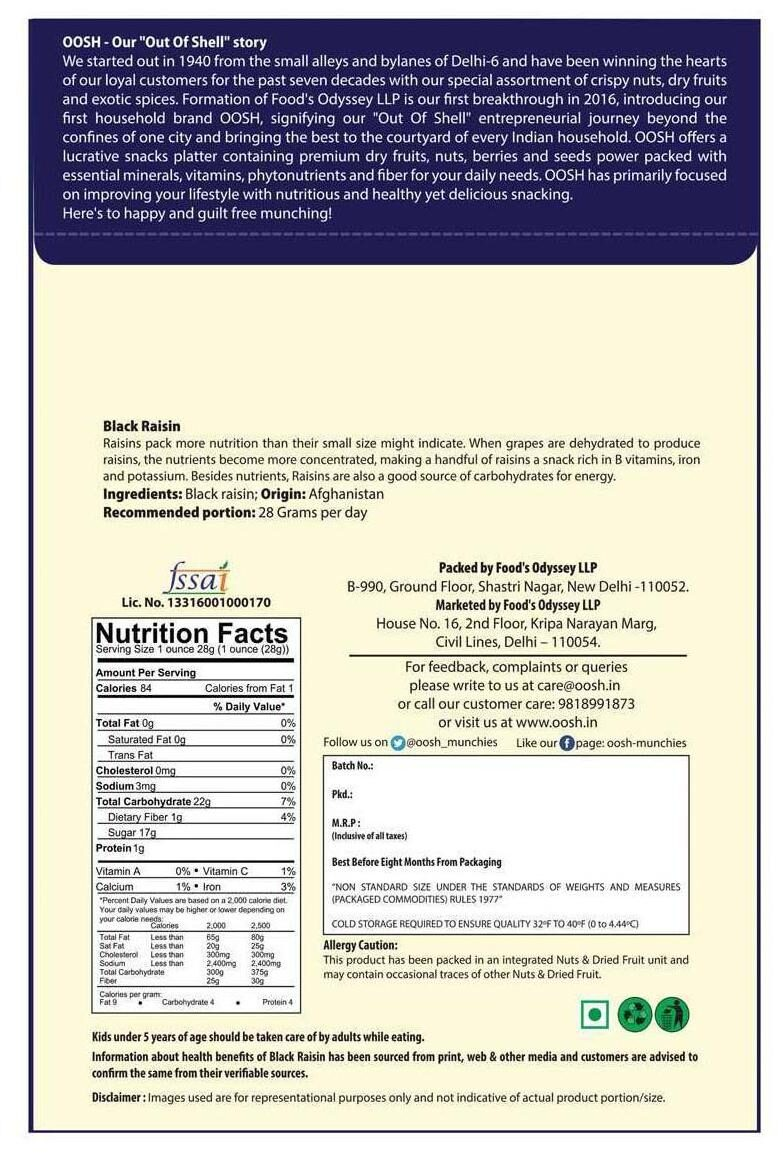fssai: (162, 560, 233, 596)
